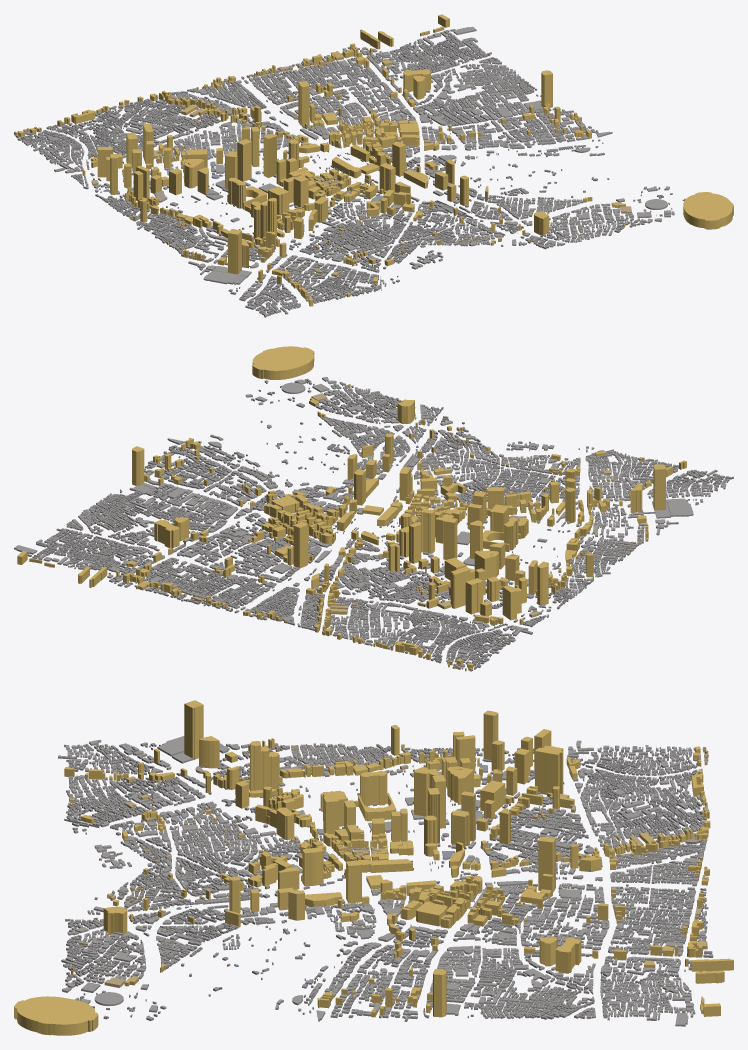
File: buildings.glb
3 views of the same model, one above another, from view 1: azimuth 30°, elevation 25°; view 2: azimuth 150°, elevation 25°; view 3: azimuth 270°, elevation 25° (orthographic). The views are drawn at different scales.
Parts seen in each view (by area): view 1: buildings; view 2: buildings; view 3: buildings.
Boxes of the visible parts, <box> form: buildings: <box>14,14,733,317</box>; buildings: <box>14,346,733,671</box>; buildings: <box>14,700,733,1035</box>.
Bounding box in the file's own units: 2828 × 267 × 2937.
